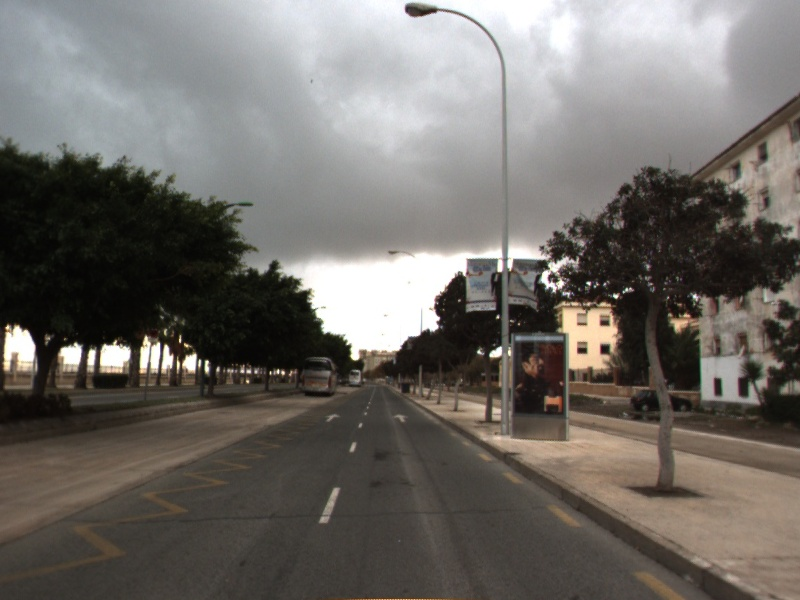STRAIGHT: (390, 412, 411, 424), (322, 412, 343, 424)
